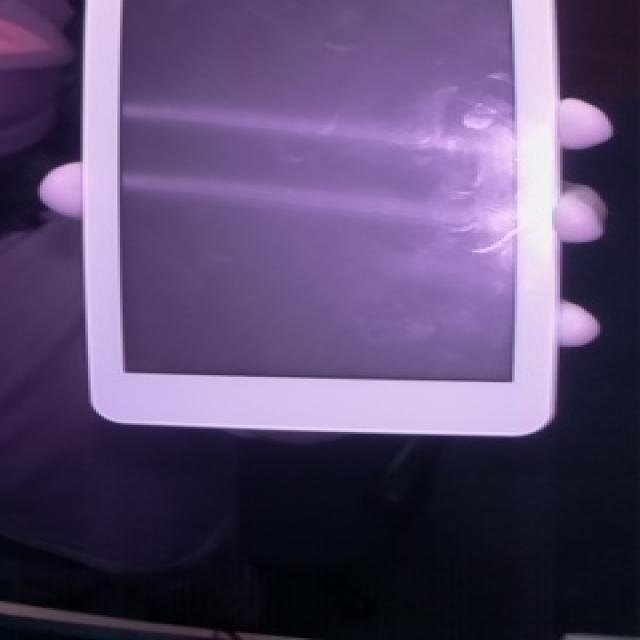phone: (67, 0, 585, 446)
